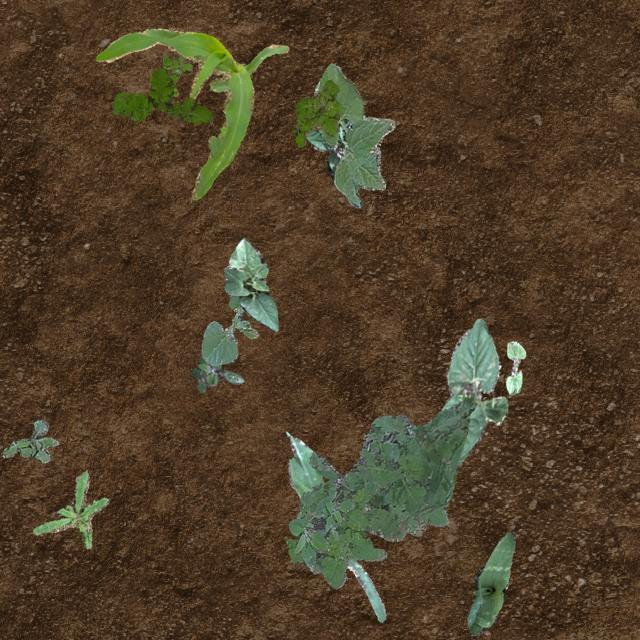crop: (95, 28, 287, 200), (288, 434, 384, 620), (312, 62, 393, 206), (440, 318, 508, 464), (224, 237, 278, 331), (466, 532, 514, 636), (200, 294, 258, 364), (304, 126, 344, 180), (504, 341, 524, 394)
weed: (286, 397, 474, 588), (32, 470, 108, 548), (287, 486, 353, 572), (111, 68, 212, 122), (292, 78, 342, 146), (0, 418, 58, 462), (190, 354, 242, 392), (162, 54, 192, 96)
